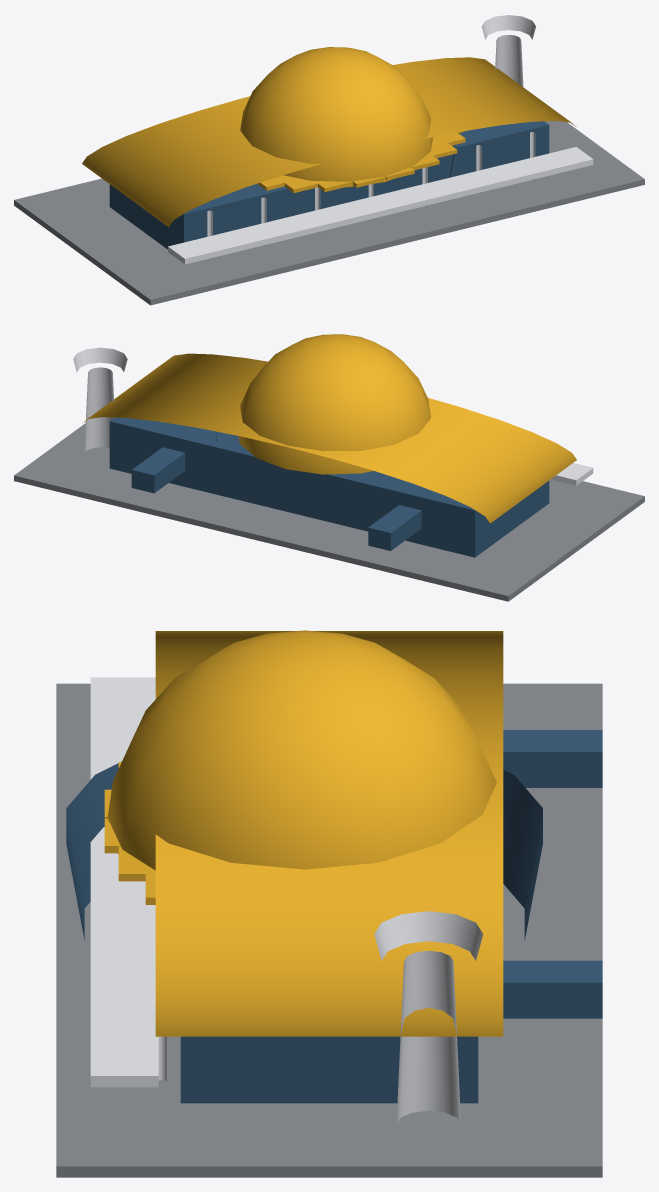
Rendered from lm_23_lien_khuong_airport_terminal.glb.
The picture shows the model from 3 angles, top to bottom: view 1: azimuth 30°, elevation 25°; view 2: azimuth 150°, elevation 25°; view 3: azimuth 270°, elevation 25°; orthographic projection. The views are drawn at different scales.
Visible parts, largest first — view 1: DaQuy_Sunflower_Roof, Terminal_Apron_Base, ATC_Tower_And_Viaduct, Terminal_Concourse_Glass; view 2: DaQuy_Sunflower_Roof, Terminal_Apron_Base, Terminal_Concourse_Glass, ATC_Tower_And_Viaduct; view 3: DaQuy_Sunflower_Roof, Terminal_Apron_Base, Terminal_Concourse_Glass, ATC_Tower_And_Viaduct.
Boxes of the visible parts, left/top/right/bottom form: DaQuy_Sunflower_Roof: left=82, top=47, right=575, bottom=227; Terminal_Apron_Base: left=14, top=121, right=644, bottom=305; ATC_Tower_And_Viaduct: left=168, top=15, right=593, bottom=264; Terminal_Concourse_Glass: left=109, top=121, right=549, bottom=249; DaQuy_Sunflower_Roof: left=83, top=334, right=576, bottom=523; Terminal_Apron_Base: left=14, top=423, right=644, bottom=601; Terminal_Concourse_Glass: left=109, top=417, right=549, bottom=557; ATC_Tower_And_Viaduct: left=73, top=347, right=593, bottom=485; DaQuy_Sunflower_Roof: left=104, top=630, right=503, bottom=1036; Terminal_Apron_Base: left=56, top=683, right=602, bottom=1177; Terminal_Concourse_Glass: left=66, top=730, right=602, bottom=1103; ATC_Tower_And_Viaduct: left=90, top=677, right=483, bottom=1123.
Size of the model in its own units: 92 by 25.6 by 44.
